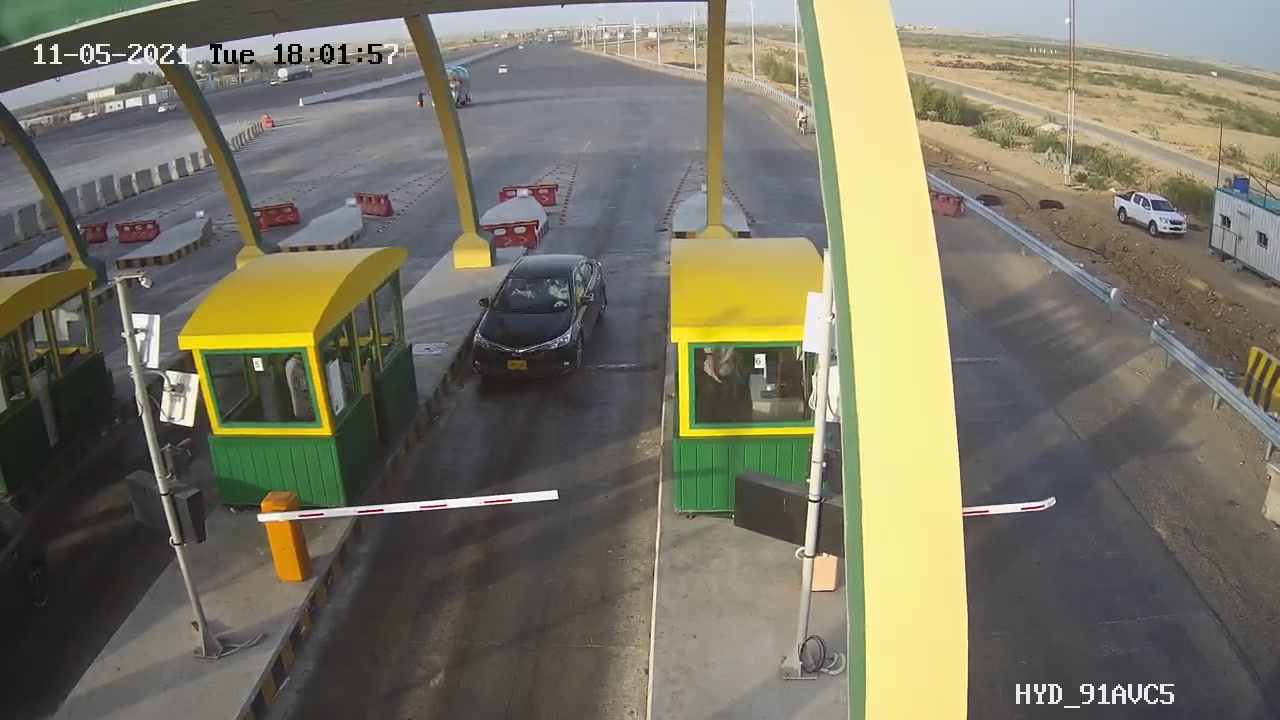F1: (460, 243, 616, 401)
